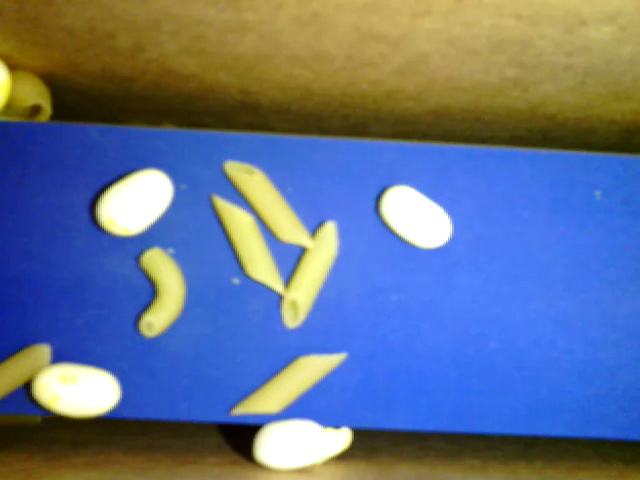elbow: (137, 244, 192, 342)
penne: (222, 157, 315, 250), (212, 191, 287, 298), (229, 350, 347, 414), (283, 219, 338, 331), (2, 342, 51, 398)
shell: (3, 62, 60, 125)
